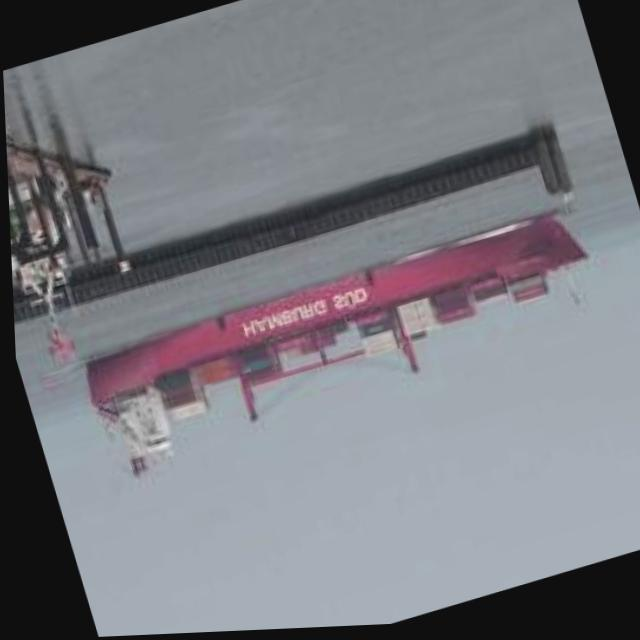ship2: (80, 215, 586, 481)
